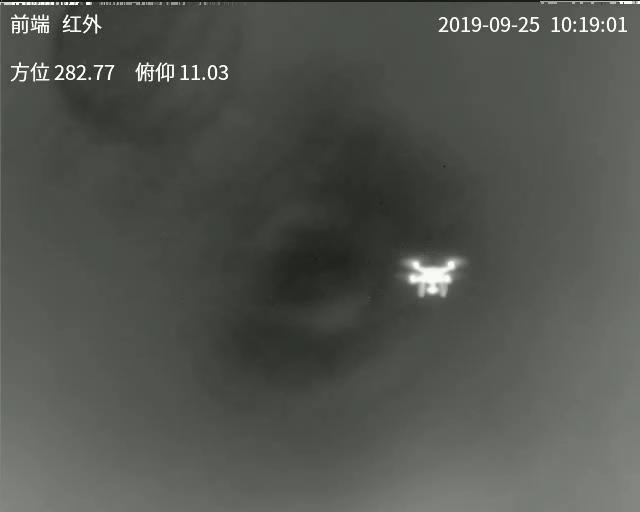uav: (398, 252, 469, 303)
